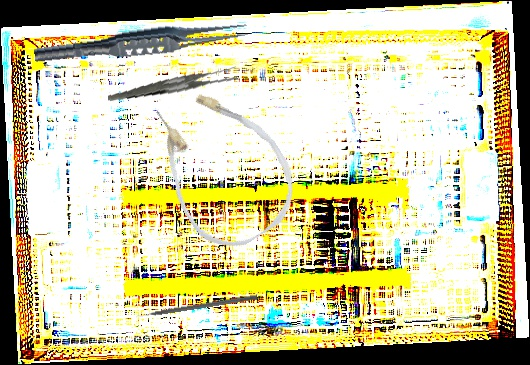Cannula: (131, 66, 313, 264)
Dressing Forceps: (107, 51, 239, 117)
Hook Surgical: (135, 293, 258, 319)
Tissue Forceps: (33, 14, 249, 72)
